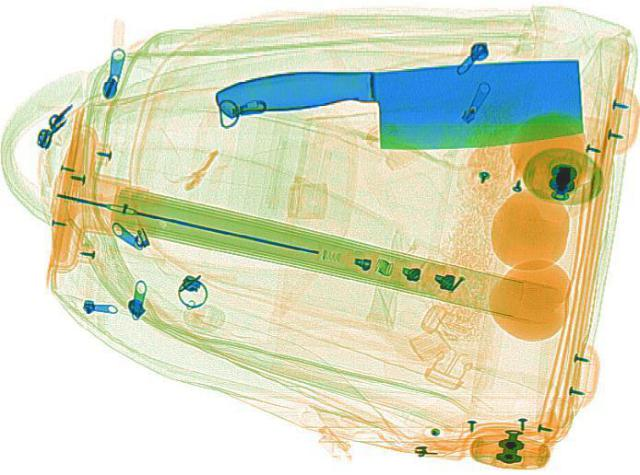Knife: (208, 46, 592, 171)
